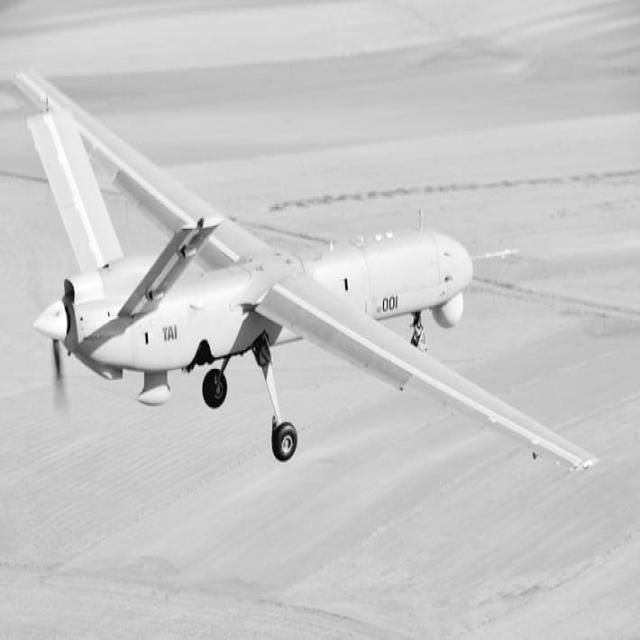iha: (5, 3, 595, 467)
